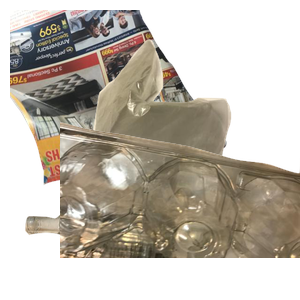glass: (22, 192, 234, 300)
paper: (10, 10, 230, 188)
plastic: (60, 120, 300, 300)
trash: (89, 37, 300, 213)
